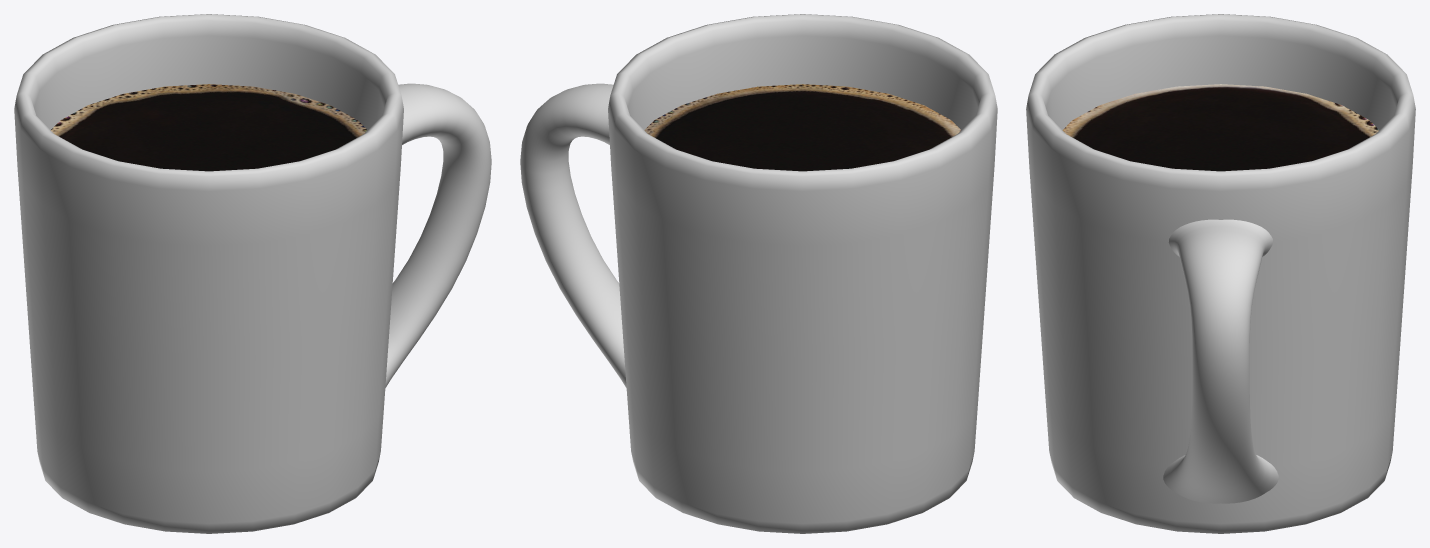
Rendered from Coffeecupnotsobig.fbx.
3 renders of one model, left to right at view 1: azimuth 30°, elevation 25°; view 2: azimuth 150°, elevation 25°; view 3: azimuth 270°, elevation 25°, orthographic.
Visible parts, largest first — view 1: Circle; view 2: Circle; view 3: Circle.
Boxes of the visible parts, left/top/right/bottom form: Circle: left=14, top=14, right=491, bottom=533; Circle: left=520, top=14, right=997, bottom=533; Circle: left=1026, top=14, right=1415, bottom=533.
Size of the model in its own units: 8.81 by 6.99 by 6.66.
2 materials, 1 textured.
